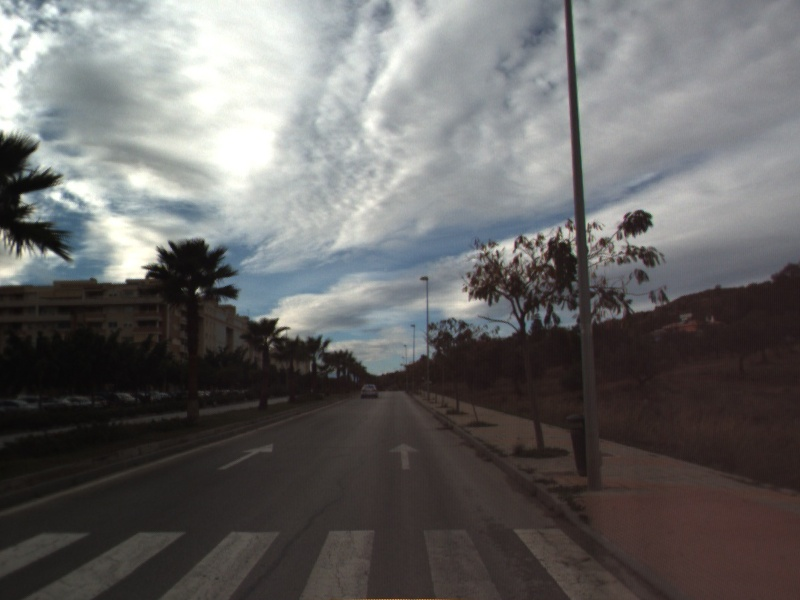STRAIGHT: (215, 441, 275, 472), (387, 440, 422, 472)
